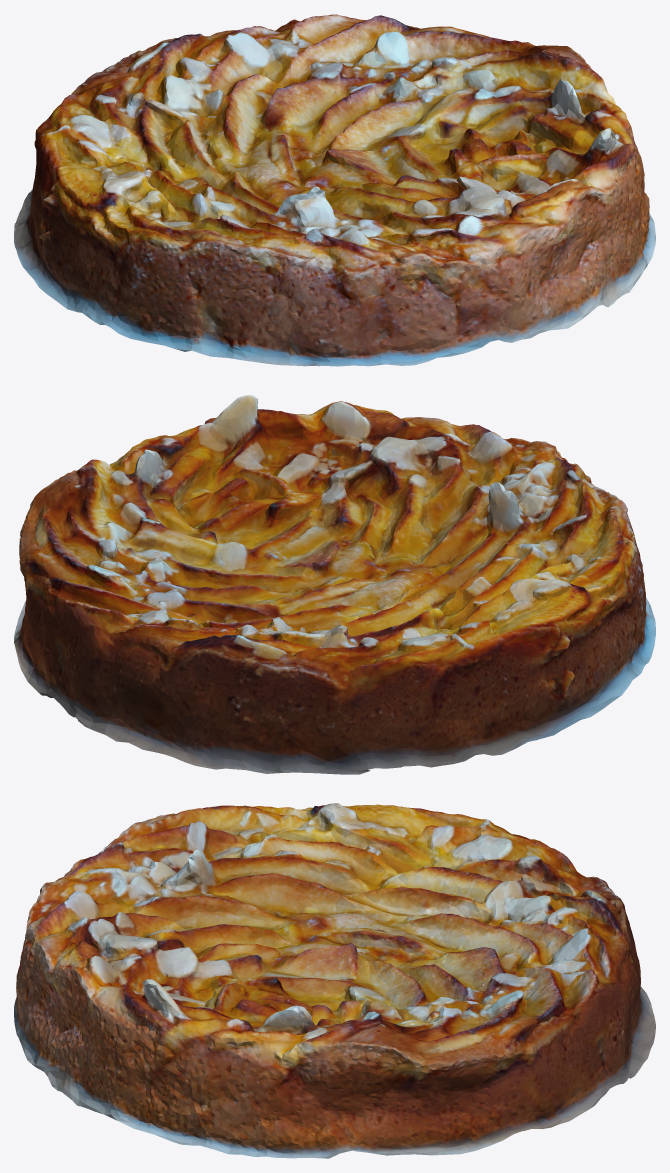
The model's file is Apple pie.glb.
3 views of the same model, one above another, from view 1: azimuth 30°, elevation 25°; view 2: azimuth 150°, elevation 25°; view 3: azimuth 270°, elevation 25° (orthographic).
Bounding box in the file's own units: 0.8084 × 0.191 × 0.8084.
1 material, 1 textured.
